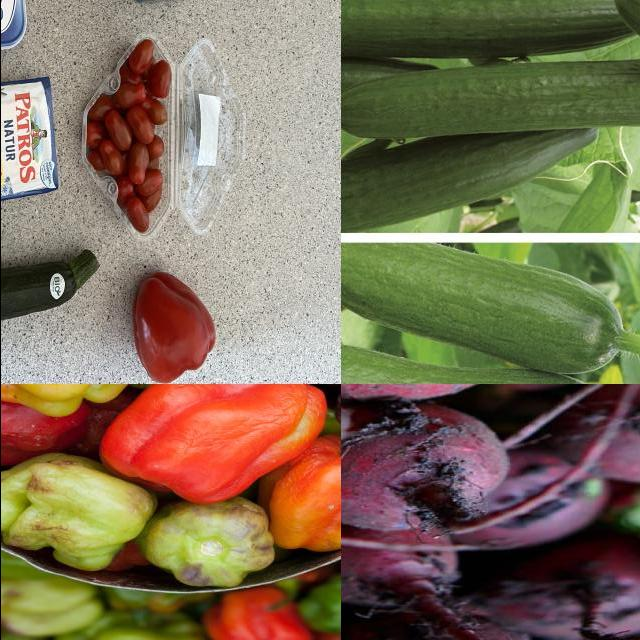beet: (341, 414, 514, 533), (566, 385, 640, 485)
bell_pepper: (111, 385, 339, 503), (1, 451, 160, 560), (123, 268, 222, 385), (147, 501, 285, 583), (263, 457, 341, 558)
cucumber: (341, 243, 633, 377), (341, 119, 606, 234), (341, 59, 640, 139), (341, 1, 640, 63), (341, 345, 640, 385)
tomato: (82, 22, 238, 254)
zucchini: (1, 238, 106, 360)
